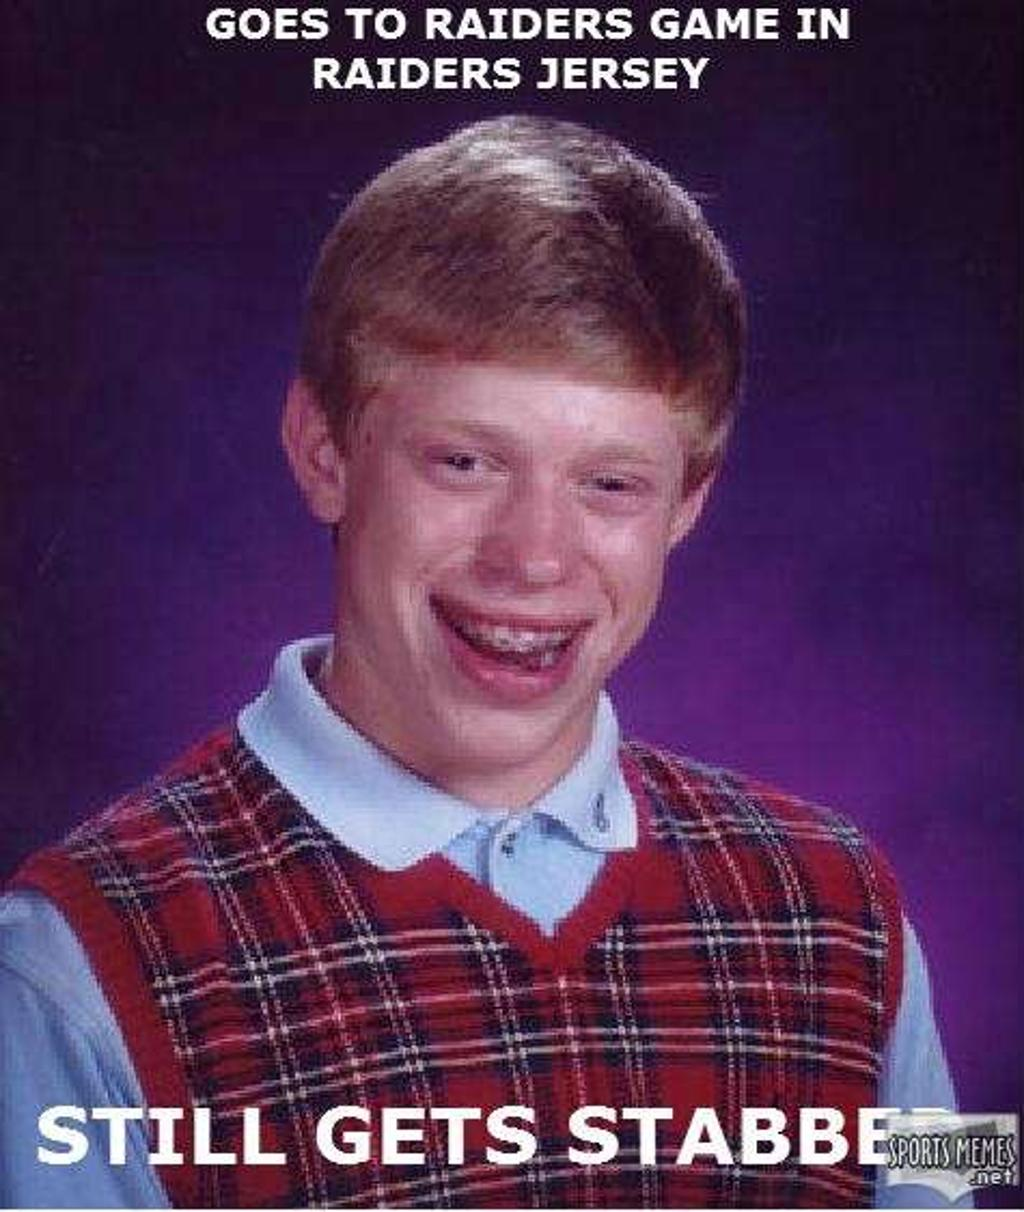face: (350, 364, 662, 761)
